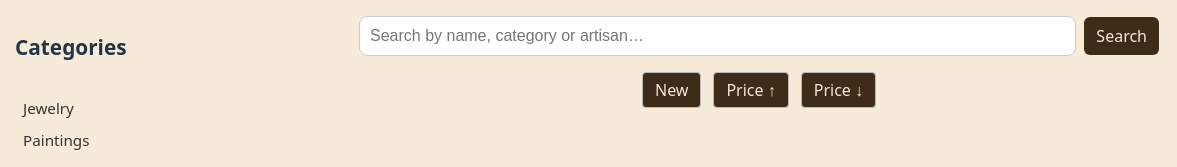
Test: typing in search bar shows a matching category suggestion and clicking it fills the input
The image size is (1177, 167).
Type "je" into the field with placeholder "Search by name, category or artisan…".
click(718, 36); type("je")  # box [359,16,1076,56]
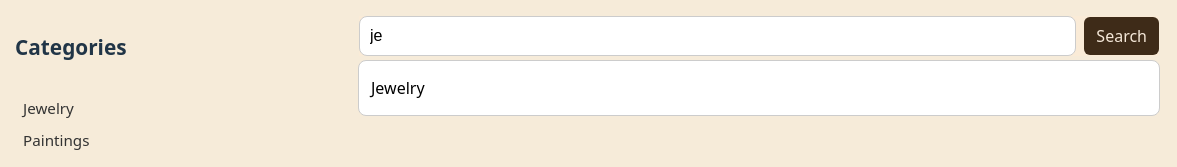
Expected: the 1st button "Jewelry" is shown
Click the 1st button "Jewelry".
click(398, 88)  # box [359,69,1159,107]
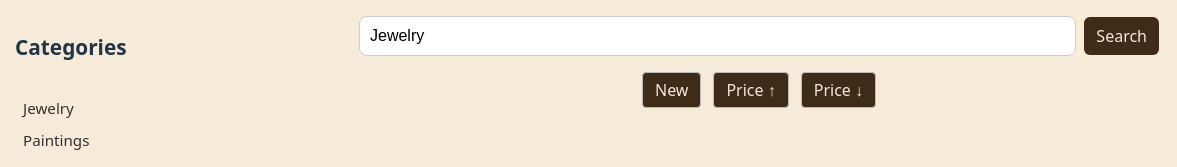
Expected: the field with placeholder "Search by name, category or artisan…" holds "Jewelry", [359,16,1076,56]
